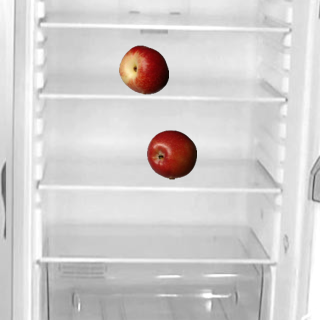Apple Braeburn: (146, 129, 196, 179)
Nectarine: (118, 44, 168, 94)
